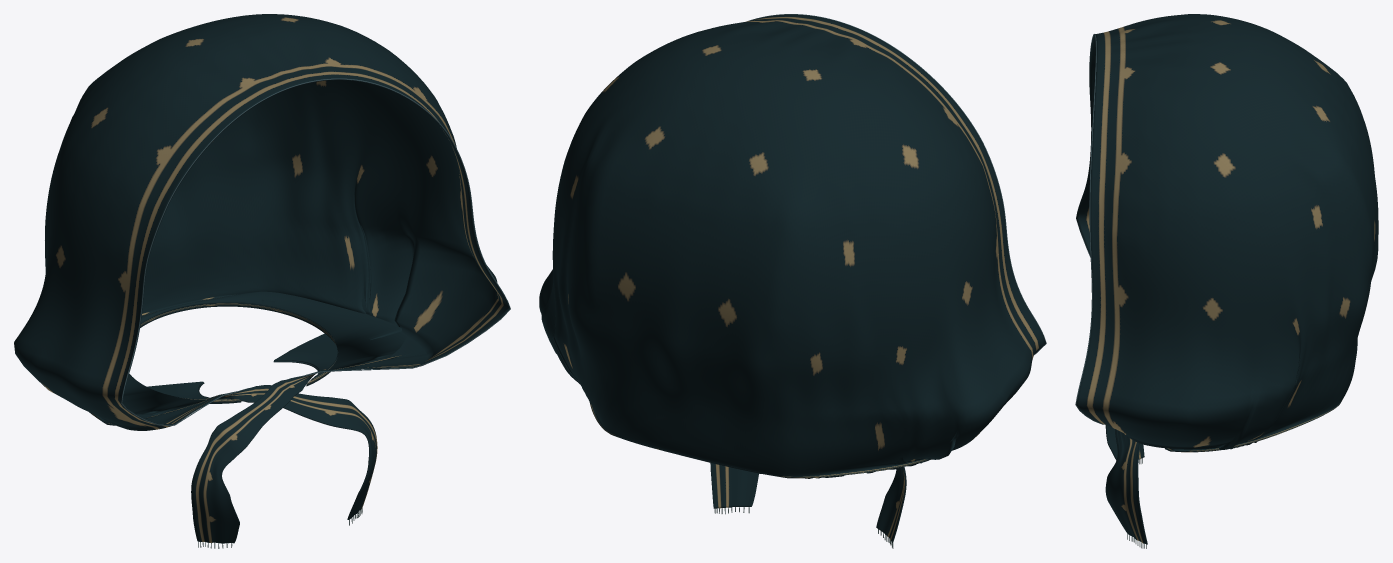
Rendered from Feminine-box-braids-sweatshirt-pashmina249-headgear.glb.
3 views of the same model, side by side, from view 1: azimuth 30°, elevation 25°; view 2: azimuth 150°, elevation 25°; view 3: azimuth 270°, elevation 25° (orthographic). The views are drawn at different scales.
Visible parts, largest first — view 1: 226 headgear / Headwear / continuous woven pashmina239, 226 headgear / Headwear / face edge239; view 2: 226 headgear / Headwear / continuous woven pashmina239, 226 headgear / Headwear / face edge239; view 3: 226 headgear / Headwear / continuous woven pashmina239, 226 headgear / Headwear / face edge239.
Boxes of the visible parts, bbox=[...] form: 226 headgear / Headwear / continuous woven pashmina239: bbox=[14, 14, 509, 543]; 226 headgear / Headwear / face edge239: bbox=[121, 78, 510, 425]; 226 headgear / Headwear / continuous woven pashmina239: bbox=[539, 14, 1045, 542]; 226 headgear / Headwear / face edge239: bbox=[746, 14, 1046, 354]; 226 headgear / Headwear / continuous woven pashmina239: bbox=[1076, 14, 1378, 544]; 226 headgear / Headwear / face edge239: bbox=[1075, 34, 1104, 424].
Bounding box in the file's own units: 1.33 × 1.38 × 0.8063.
3 materials, 1 textured.
